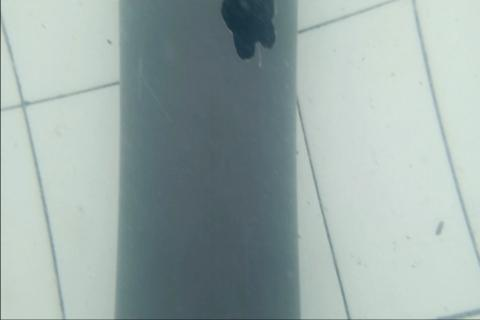kebocoran: (217, 0, 277, 60)
